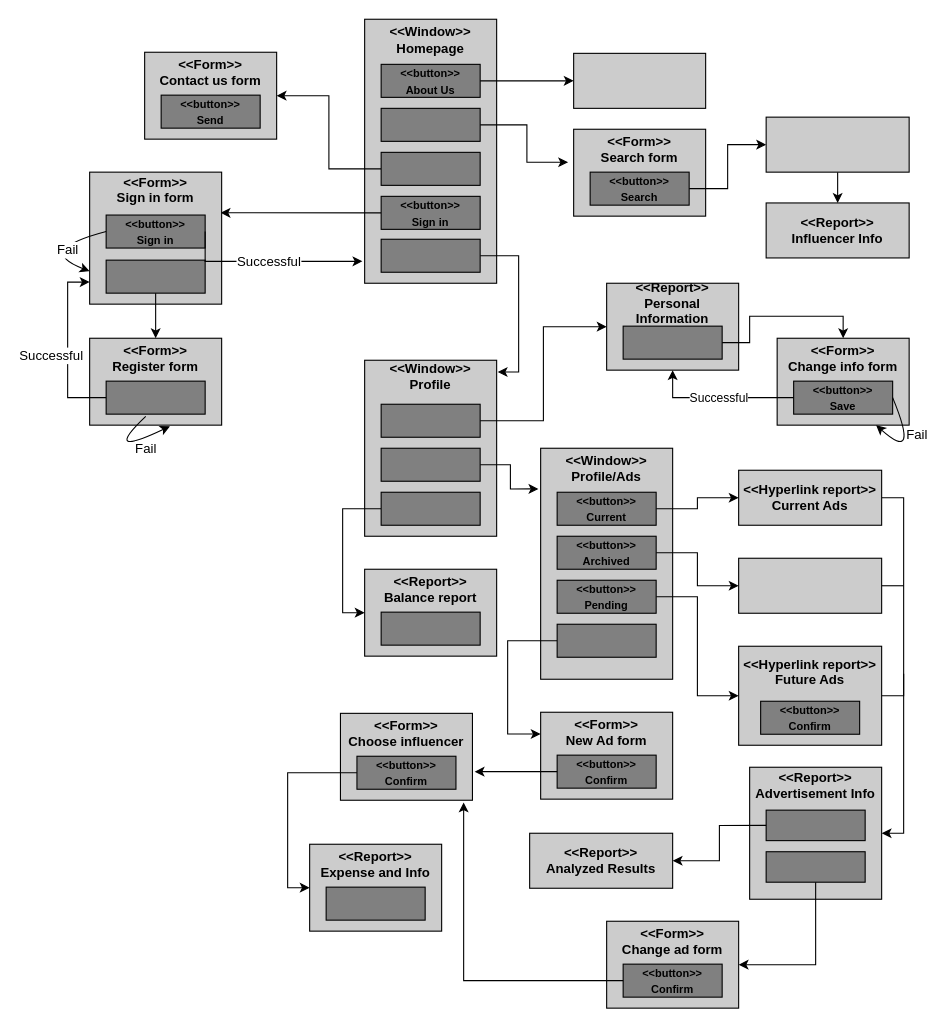
The diagram is 946 pixels wide and 1027 high, and some of its shapes have lost their labels. Here are the shapes that lost their labels. From the top down, the centre of each, then its label:
At [639,80]: "<<Report>> Our team information".
At [430,124]: "<<button>> Explore".
At [837,144]: "<<Hyperlink report>> Influencers List".
At [430,168]: "<<button>> Contact".
At [430,255]: "<<button>> View Profile".
At [155,276]: "<<button>> Register".
At [672,342]: "<<button>> Change".
At [155,397]: "<<button>> Create Account".
At [430,420]: "<<button>> Information".
At [430,464]: "<<button>> Advertisements".
At [430,508]: "<<button>> Balance".
At [810,585]: "<<Hyperlink report>> Archived Ads".
At [430,628]: "<<button>> Add Balance".
At [606,640]: "<<button>> New Ad".
At [815,825]: "<<button>> Analyze".
At [815,866]: "<<button>> Change Ad".
At [375,903]: "<<button>> Confirm and Pay".
